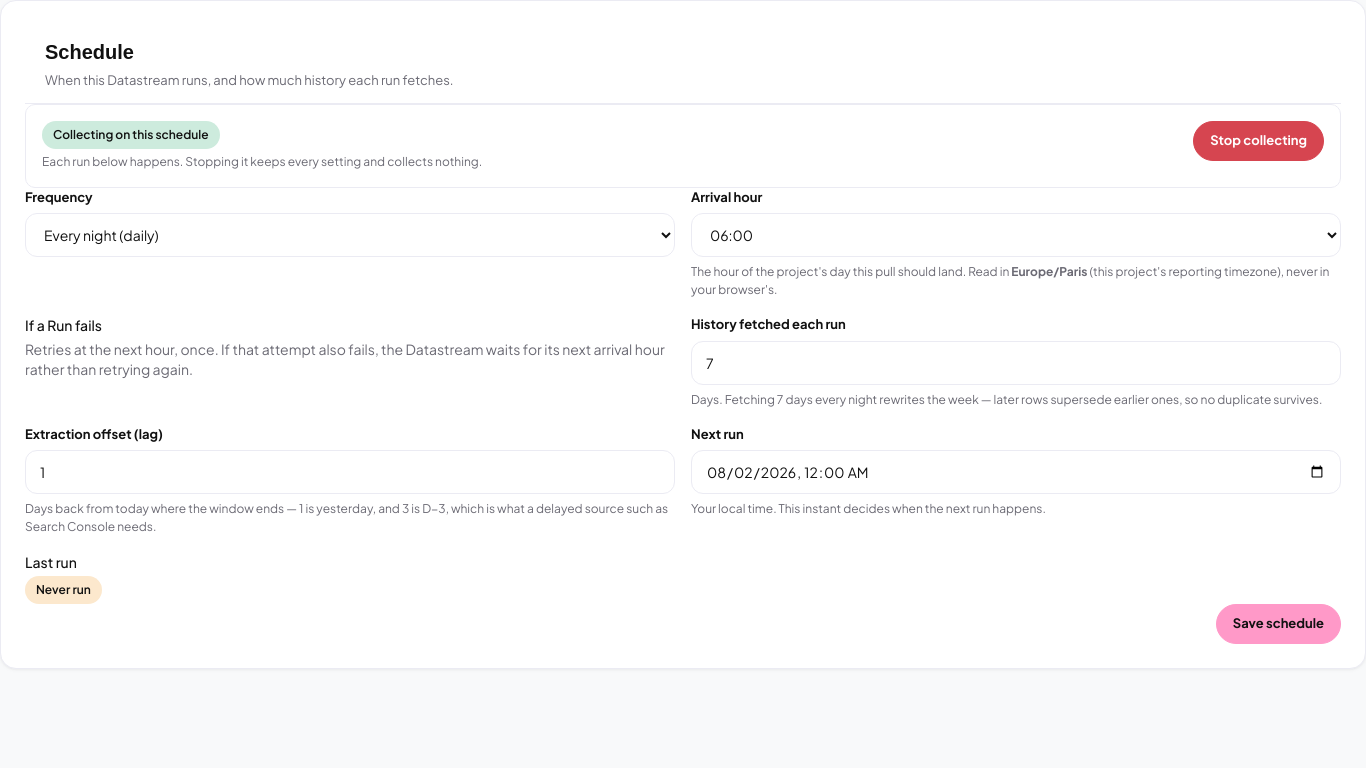
it: SchedulePanel › names the scope before writing, and cancelling sends nothing
Select "09:00" in the dropdown with test id "schedule-arrival-hour" at (1016, 235), box [691,213,1341,257]
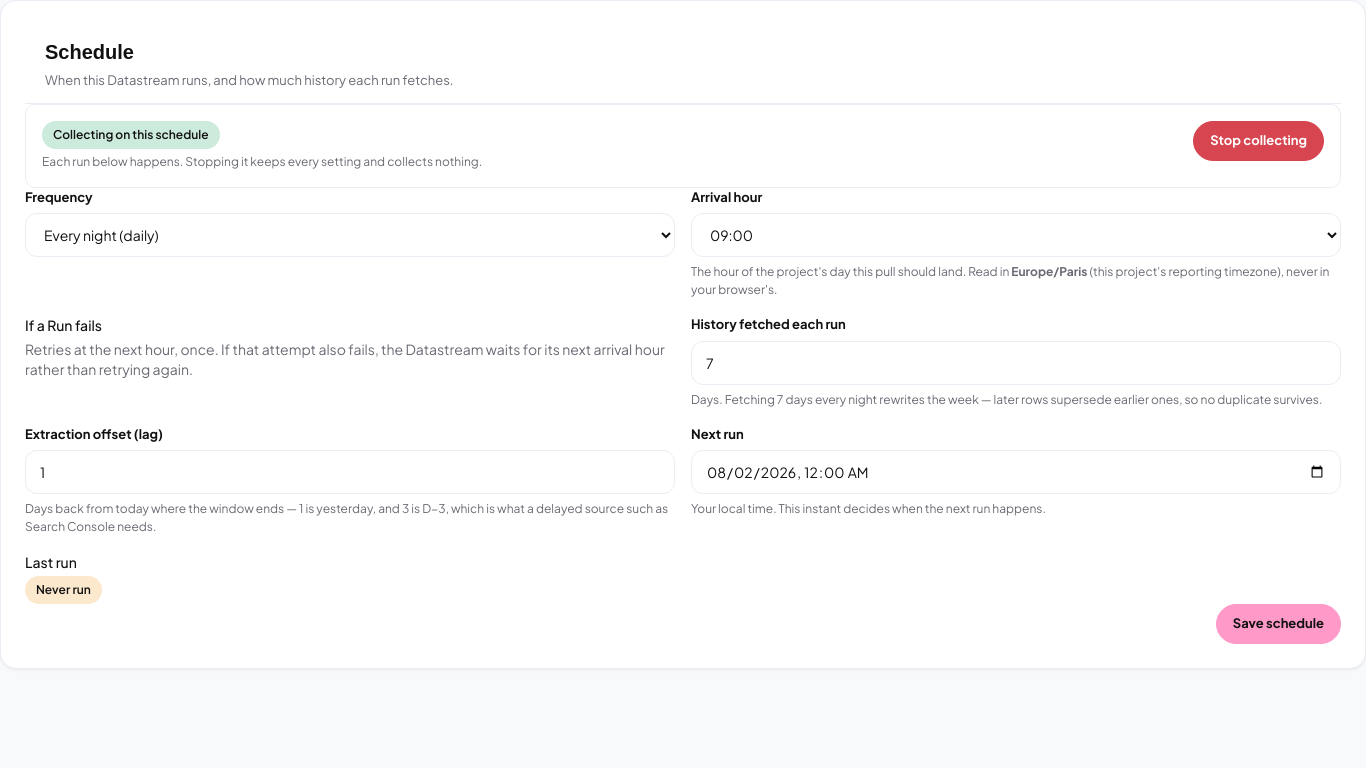
Click the button with test id "schedule-save" at (1278, 624), box [1216,604,1341,644]
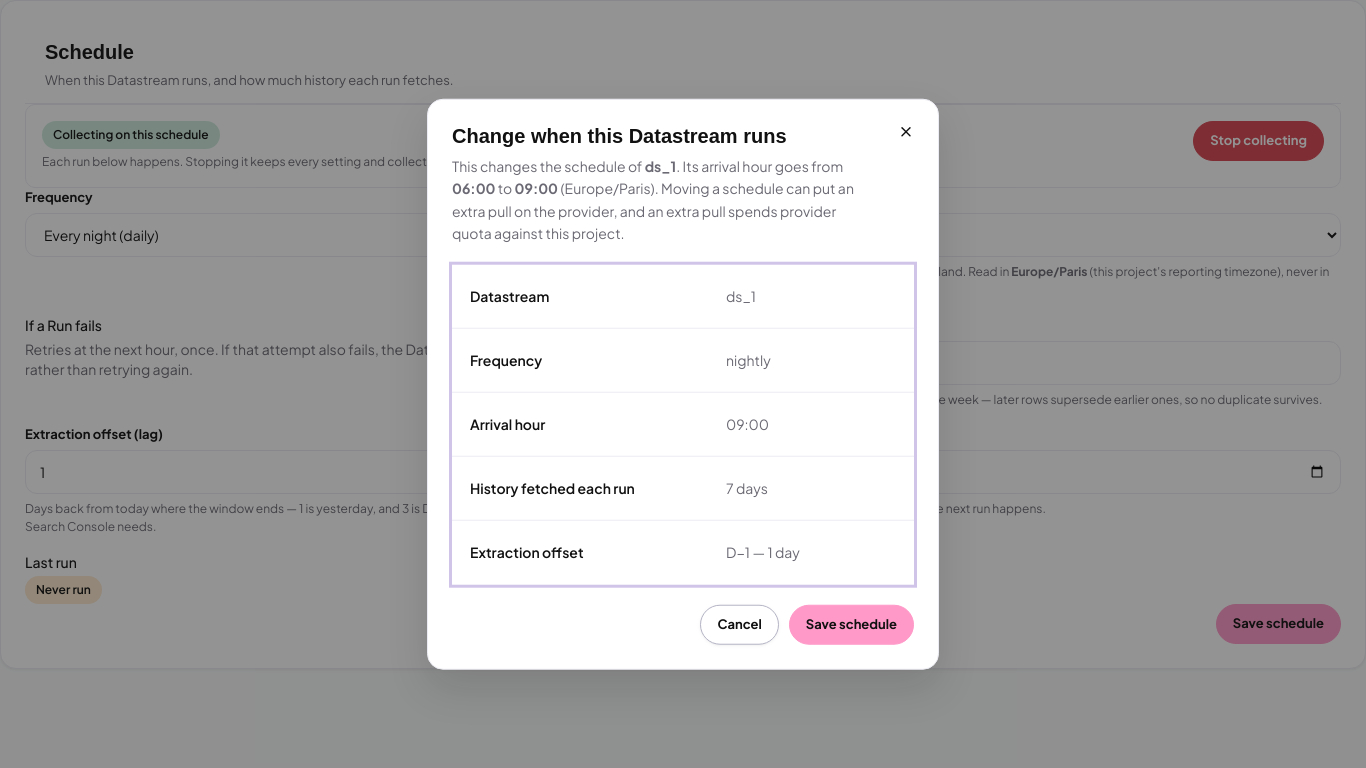
Result: the dialog with test id "schedule-confirm" shows "ds_1" at [645,157,676,175]
Result: the dialog with test id "schedule-confirm" shows "06:00" at [452,179,496,197]
Result: the dialog with test id "schedule-confirm" shows "09:00" at [515,179,558,197]
Click the button with test id "schedule-confirm-cancel" at (740, 624), box [700,604,779,644]
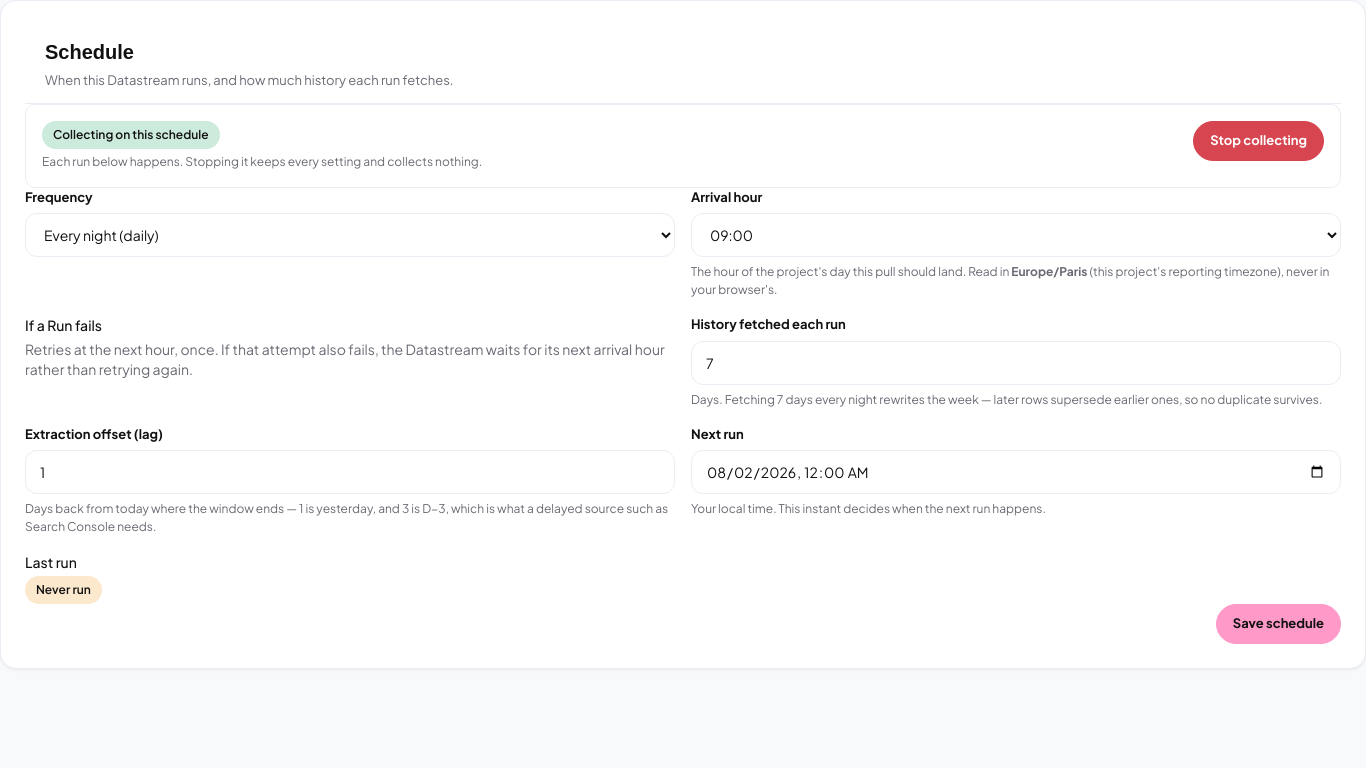
Result: the dialog with test id "schedule-confirm" is gone
